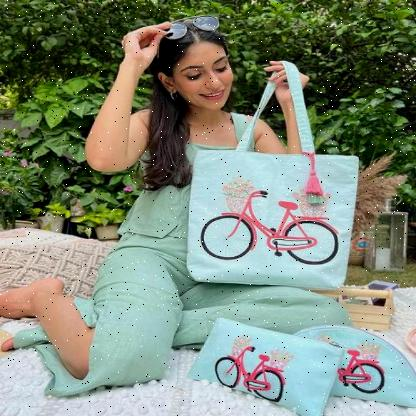bag: (182, 146, 361, 294)
person: (0, 13, 346, 359)
